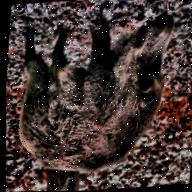boar: (7, 9, 183, 181)
